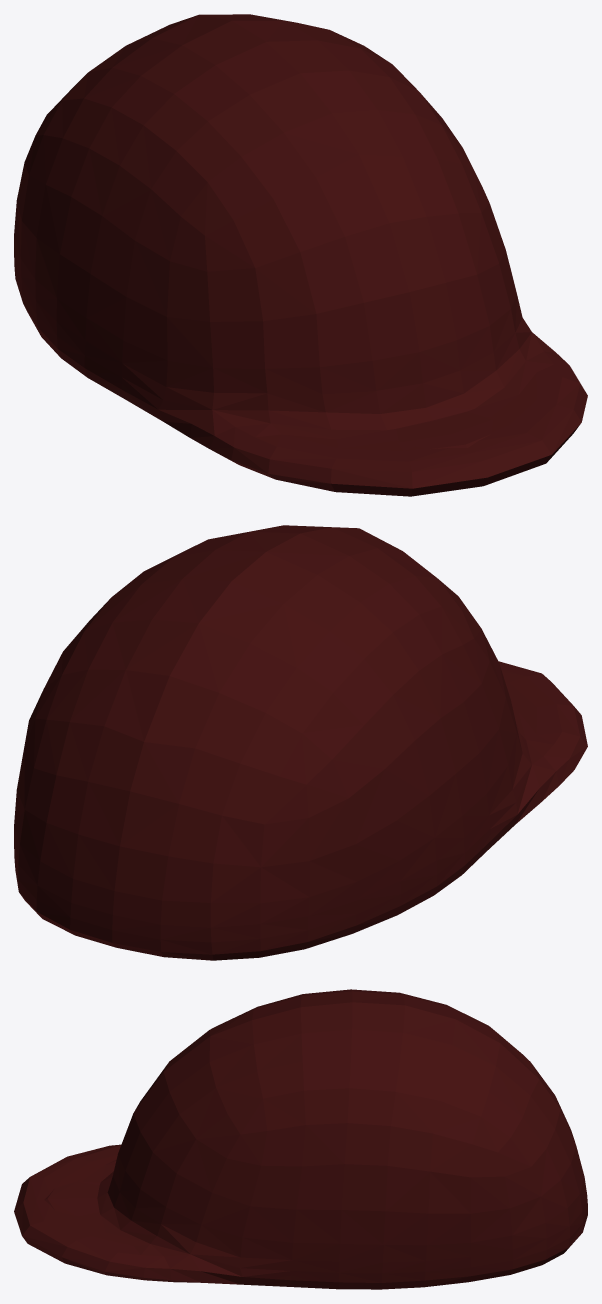
File: hat.OBJ
The picture shows the model from 3 angles, top to bottom: view 1: azimuth 30°, elevation 25°; view 2: azimuth 150°, elevation 25°; view 3: azimuth 270°, elevation 25°; orthographic projection. The views are drawn at different scales.
Parts seen in each view (by area): view 1: Group1; view 2: Group1; view 3: Group1.
Boxes of the visible parts, <box> form: Group1: <box>14,14,587,496</box>; Group1: <box>14,525,587,960</box>; Group1: <box>14,989,587,1289</box>.
Size of the model in its own units: 2.91 by 2.11 by 4.97.
1 material, 1 textured.
